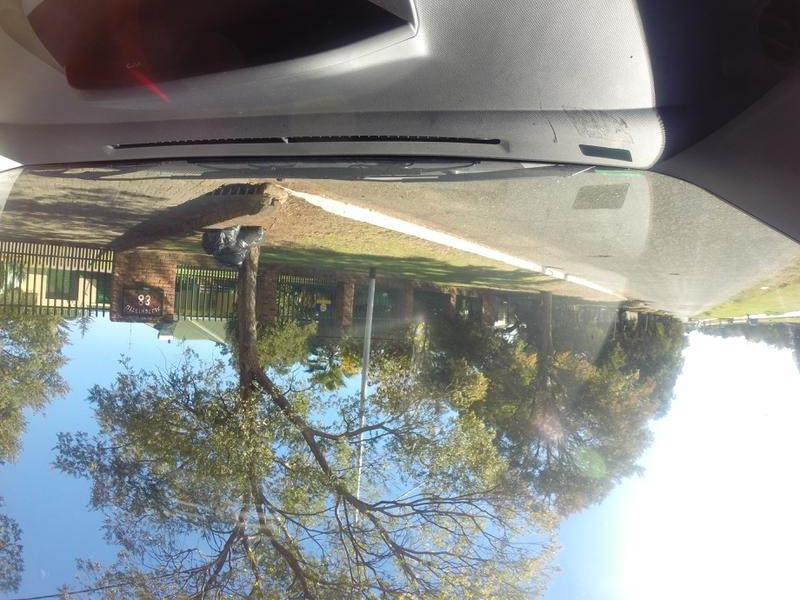pothole: (585, 255, 612, 260), (670, 269, 684, 277)
